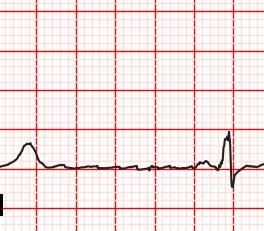ST Depression: (211, 162, 247, 189)
